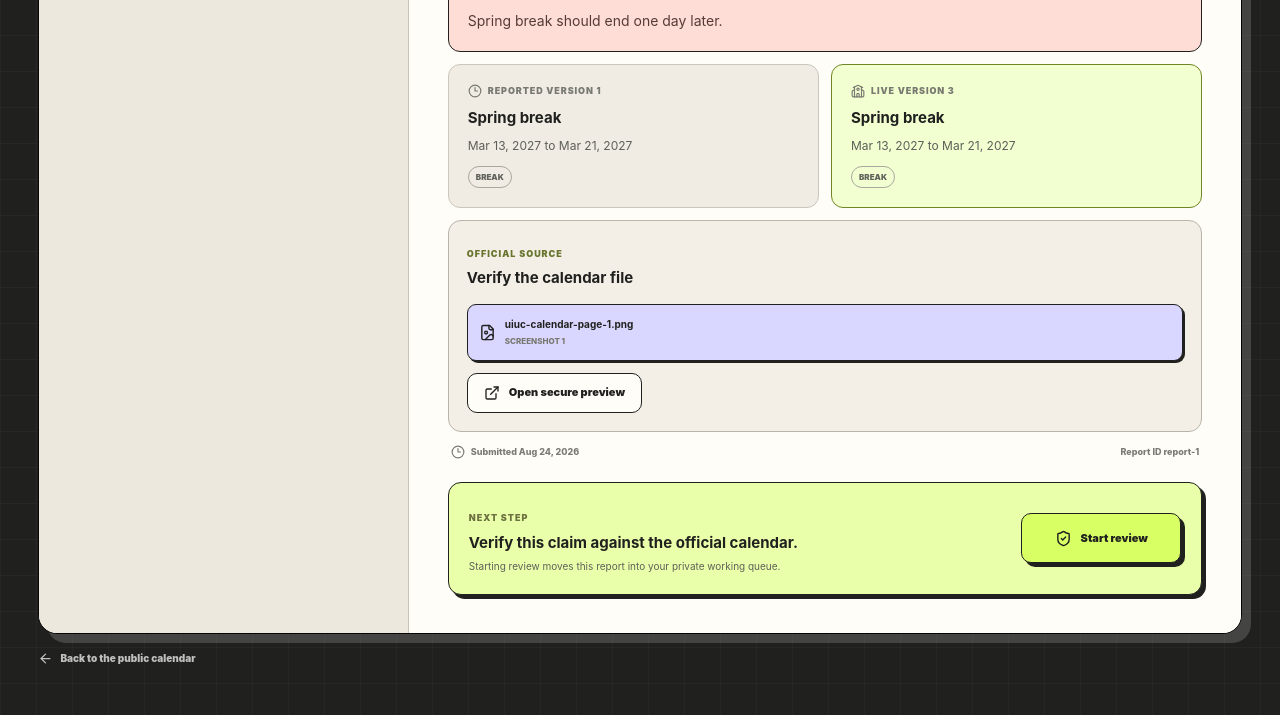
it: Common Days admin frontend › loads the protected queue, distinguishes calendar versions, and starts a review
The image size is (1280, 715).
(page scrolled)
Check: the text "REPORTED VERSION 1" is shown, box [468,84,602,98]
Check: the text "LIVE VERSION 3" is shown, box [851,84,955,98]
Click the button "Start review": {"x": 1101, "y": 538} [1021,513,1181,563]
(page scrolled)
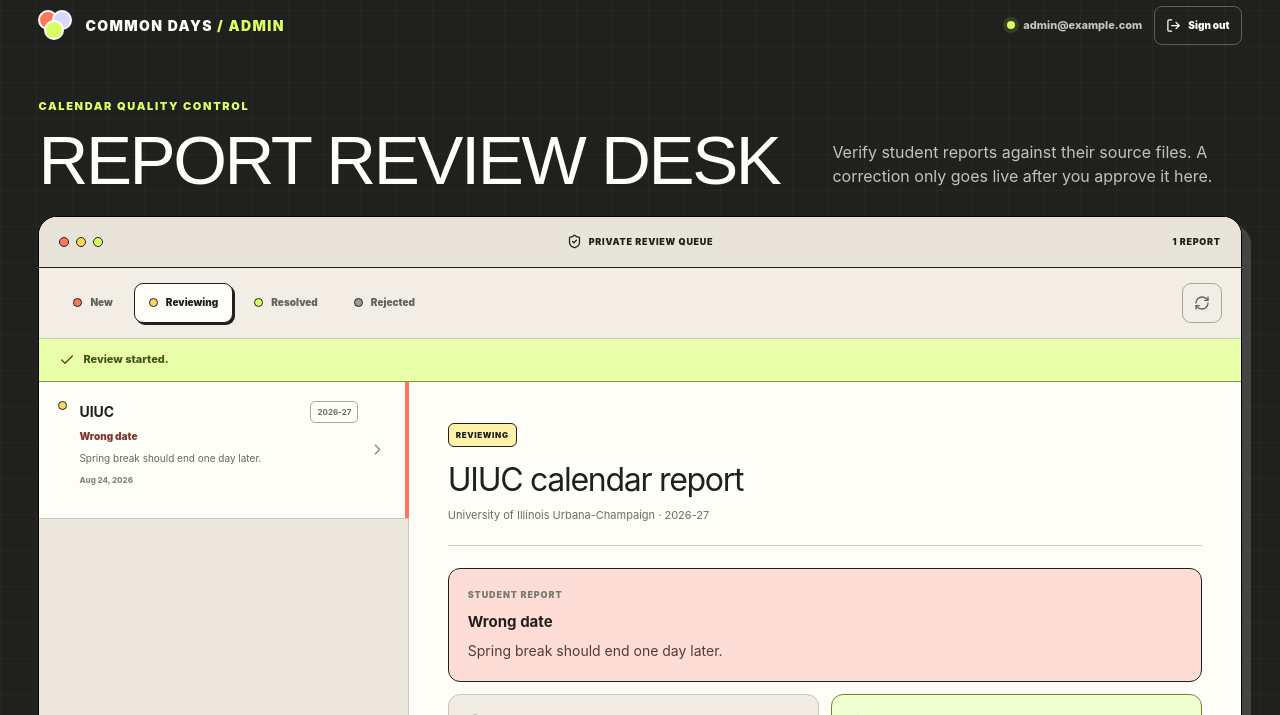
Check: the text "Review started." is shown, box [39,338,1241,382]
